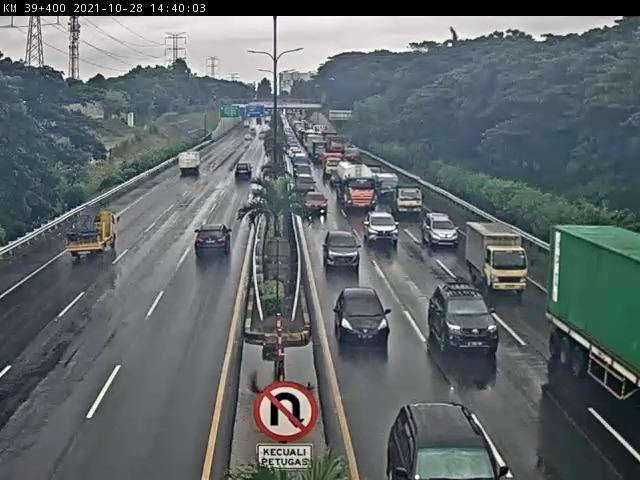car: (426, 285, 496, 351), (333, 289, 393, 345), (421, 213, 462, 250), (325, 230, 362, 266), (194, 224, 233, 256), (364, 212, 399, 243), (303, 192, 329, 214)
truck: (549, 226, 640, 397), (467, 222, 532, 293), (66, 202, 117, 261), (335, 159, 377, 212), (393, 184, 429, 219), (235, 164, 252, 179)
